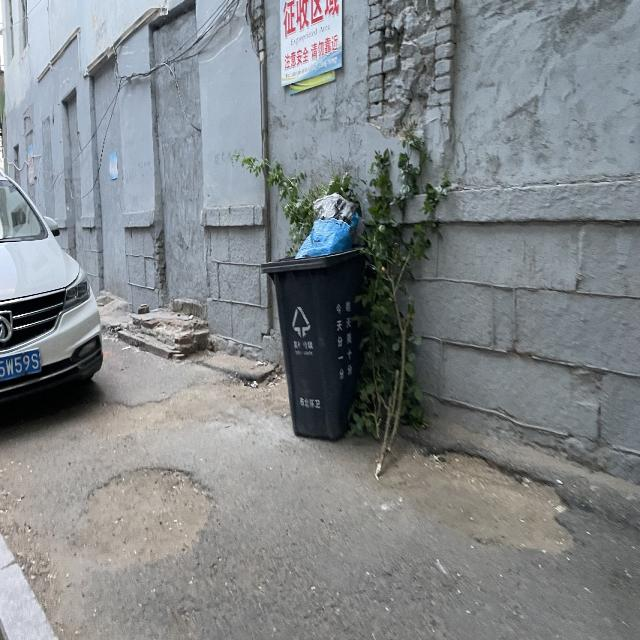overflow: (259, 192, 370, 439)
